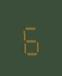six: (19, 20, 41, 55)
